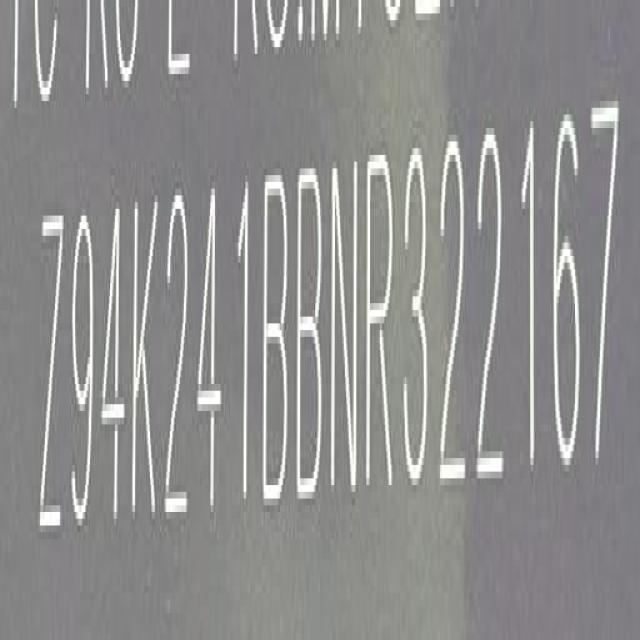1: (232, 158, 259, 520), (519, 118, 541, 472)
2: (472, 121, 507, 499), (434, 115, 467, 506), (165, 186, 189, 530)
3: (400, 127, 427, 514)
4: (192, 164, 225, 533), (99, 207, 126, 520)
6: (546, 105, 582, 479)
7: (588, 83, 624, 486)
9: (67, 204, 94, 543)
B: (293, 159, 326, 509), (263, 175, 291, 519)
K: (128, 186, 161, 543)
N: (328, 153, 364, 520)
R: (362, 142, 397, 520)
Z: (37, 216, 66, 546)
